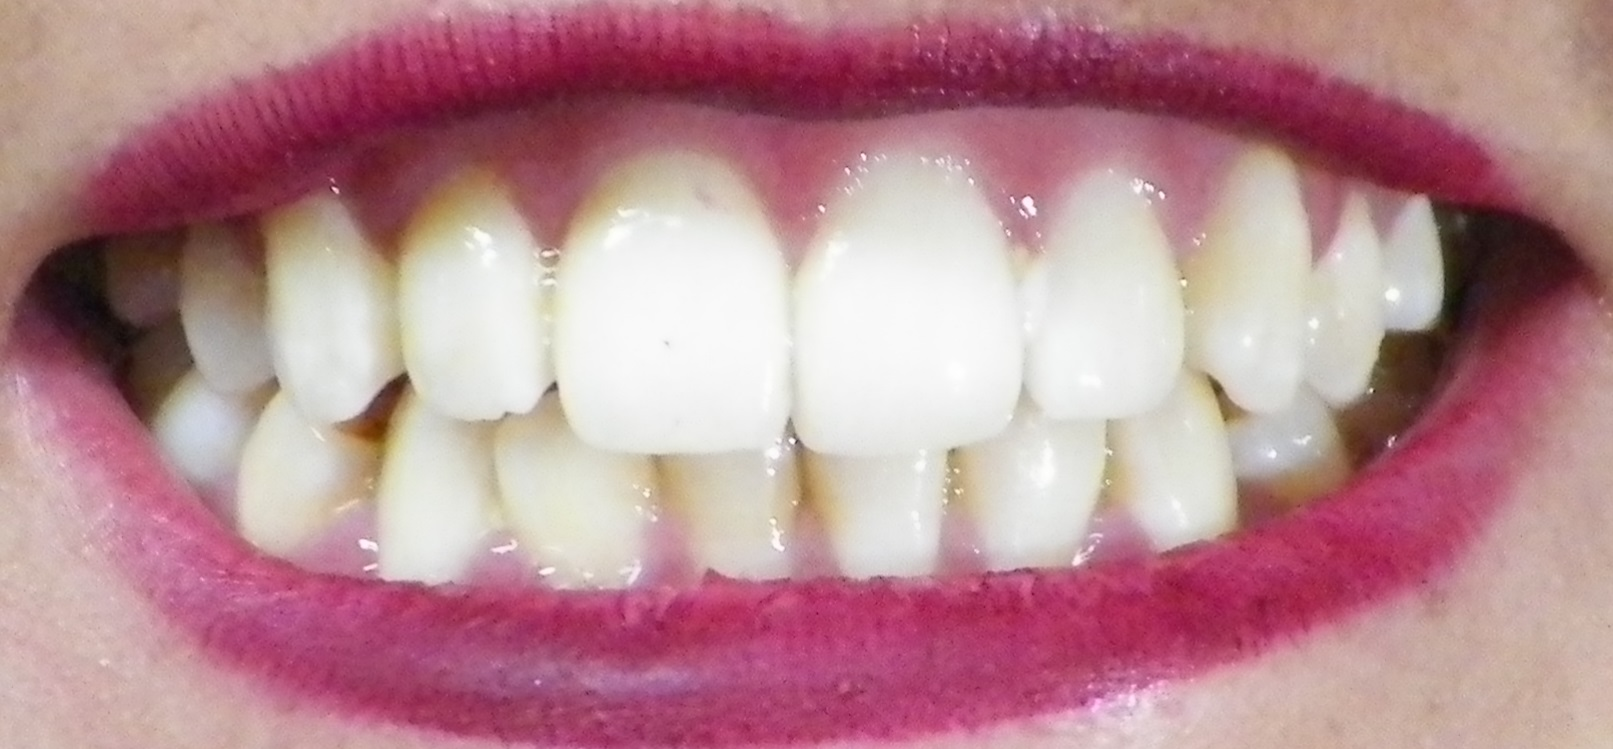boca: (97, 174, 1437, 563)
